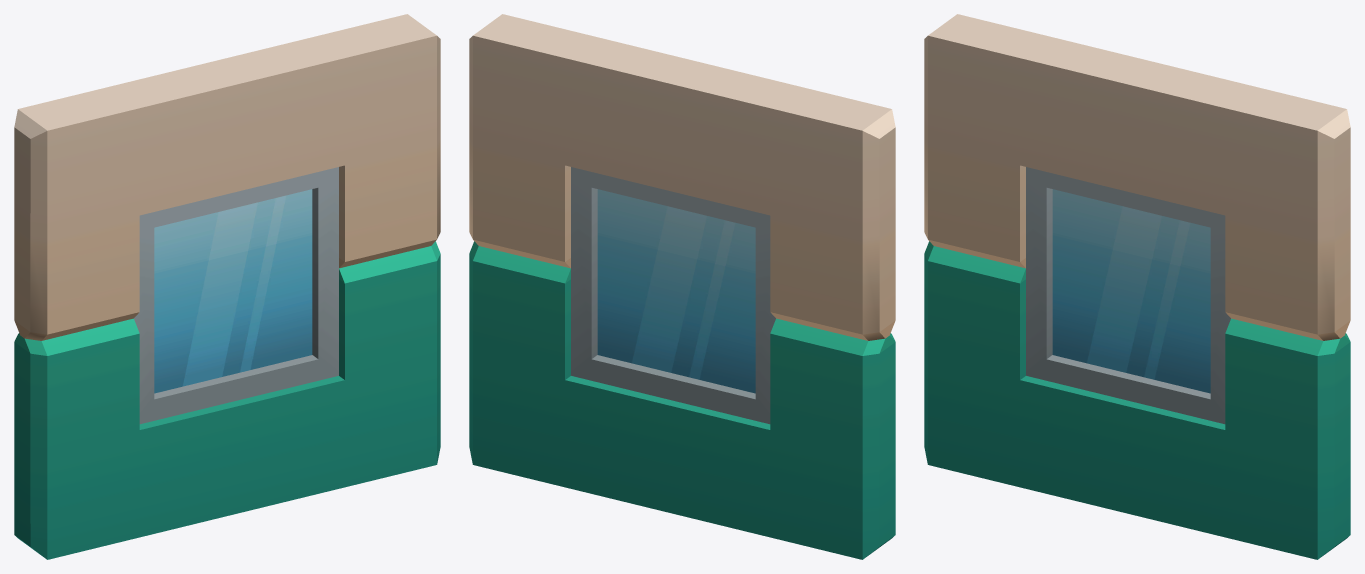
File: wall_window_close.glb
3 renders of one model, left to right at view 1: azimuth 30°, elevation 25°; view 2: azimuth 150°, elevation 25°; view 3: azimuth 330°, elevation 25°, orthographic.
Visible parts, largest first — view 1: wall_window_closed; view 2: wall_window_closed; view 3: wall_window_closed.
Part boxes in pixels (<box>): wall_window_closed: <box>14,14,440,559</box>; wall_window_closed: <box>469,14,895,559</box>; wall_window_closed: <box>924,14,1350,559</box>.
Bounding box in the file's own units: 4 × 4 × 0.5.
Materials: 1 (1 with a texture image).
